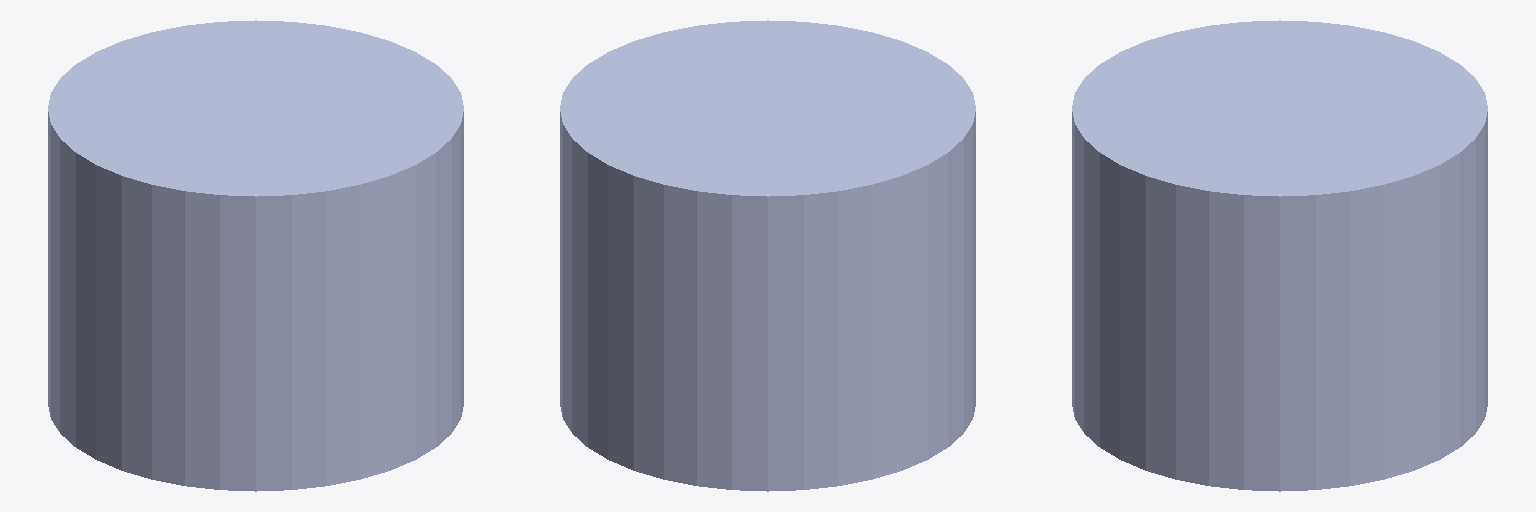
robot.urdf — robot_final:
<?xml version="1.0" encoding="utf-8"?>
<!-- This URDF was automatically created by SolidWorks to URDF Exporter! Originally created by [author] ([email redacted]) 
     Commit Version: 1.6.0-1-g15f4949  Build Version: 1.6.7594.29634
     For more information, please see http://wiki.ros.org/sw_urdf_exporter -->
<robot
  name="robot_final">
  <link
    name="base_link">
    <inertial>
      <origin
        xyz="2.94600070643872E-18 0.126942775144244 0.000980550207085389"
        rpy="0 0 0" />
      <mass
        value="19.3007876962352" />
      <inertia
        ixx="0.221118306695672"
        ixy="5.66726295707094E-18"
        ixz="-5.89775222959191E-19"
        iyy="0.24602356691635"
        iyz="-0.000586567929850887"
        izz="0.225746661344354" />
    </inertial>
    <visual>
      <origin
        xyz="0 0 0"
        rpy="0 0 0" />
      <geometry>
        <mesh
          filename="package://robot_final/meshes/base_link.STL" />
      </geometry>
      <material
        name="">
        <color
          rgba="0.792156862745098 0.819607843137255 0.933333333333333 1" />
      </material>
    </visual>
    <collision>
      <origin
        xyz="0 0 0"
        rpy="0 0 0" />
      <geometry>
        <mesh
          filename="package://robot_final/meshes/base_link.STL" />
      </geometry>
    </collision>
  </link>
  <link
    name="left_wheel_link">
    <inertial>
      <origin
        xyz="2.90294414915799E-18 1.38777878078145E-17 0.005"
        rpy="0 0 0" />
      <mass
        value="2.44162067762876" />
      <inertia
        ixx="0.00614637311915079"
        ixy="-1.49904665145034E-34"
        ixz="-6.88214269643704E-23"
        iyy="0.00614637311915079"
        iyz="-9.84935696293967E-38"
        izz="0.0122520525603411" />
    </inertial>
    <visual>
      <origin
        xyz="0 0 0"
        rpy="0 0 0" />
      <geometry>
        <mesh
          filename="package://robot_final/meshes/left_wheel_link.STL" />
      </geometry>
      <material
        name="">
        <color
          rgba="0.792156862745098 0.819607843137255 0.933333333333333 1" />
      </material>
    </visual>
    <collision>
      <origin
        xyz="0 0 0"
        rpy="0 0 0" />
      <geometry>
        <mesh
          filename="package://robot_final/meshes/left_wheel_link.STL" />
      </geometry>
    </collision>
  </link>
  <joint
    name="left_wheel_joint"
    type="continuous">
    <origin
      xyz="0 -0.1005 0.09"
      rpy="1.5708 0 0" />
    <parent
      link="base_link" />
    <child
      link="left_wheel_link" />
    <axis
      xyz="0 0 1" />
  </joint>
  <link
    name="right_wheel_link">
    <inertial>
      <origin
        xyz="-2.48526314664709E-17 1.38777878078145E-17 -0.00500000000000002"
        rpy="0 0 0" />
      <mass
        value="2.44162067762876" />
      <inertia
        ixx="0.00614637311915079"
        ixy="-1.49904665145034E-34"
        ixz="6.88214269643756E-23"
        iyy="0.00614637311915079"
        iyz="-1.30906907998409E-35"
        izz="0.0122520525603411" />
    </inertial>
    <visual>
      <origin
        xyz="0 0 0"
        rpy="0 0 0" />
      <geometry>
        <mesh
          filename="package://robot_final/meshes/right_wheel_link.STL" />
      </geometry>
      <material
        name="">
        <color
          rgba="0.792156862745098 0.819607843137255 0.933333333333333 1" />
      </material>
    </visual>
    <collision>
      <origin
        xyz="0 0 0"
        rpy="0 0 0" />
      <geometry>
        <mesh
          filename="package://robot_final/meshes/right_wheel_link.STL" />
      </geometry>
    </collision>
  </link>
  <joint
    name="right_wheel_joint"
    type="continuous">
    <origin
      xyz="0 0.1005 0.09"
      rpy="1.5708 0 0" />
    <parent
      link="base_link" />
    <child
      link="right_wheel_link" />
    <axis
      xyz="0 0 1" />
  </joint>
  <link
    name="caster1_link">
    <inertial>
      <origin
        xyz="0 0 5.55111512312578E-17"
        rpy="0 0 0" />
      <mass
        value="0.0280126392142641" />
      <inertia
        ixx="1.01125627563493E-06"
        ixy="0"
        ixz="0"
        iyy="1.01125627563493E-06"
        iyz="0"
        izz="1.01125627563493E-06" />
    </inertial>
    <visual>
      <origin
        xyz="0 0 0"
        rpy="0 0 0" />
      <geometry>
        <mesh
          filename="package://robot_final/meshes/caster1_link.STL" />
      </geometry>
      <material
        name="">
        <color
          rgba="0.792156862745098 0.819607843137255 0.933333333333333 1" />
      </material>
    </visual>
    <collision>
      <origin
        xyz="0 0 0"
        rpy="0 0 0" />
      <geometry>
        <mesh
          filename="package://robot_final/meshes/caster1_link.STL" />
      </geometry>
    </collision>
  </link>
  <joint
    name="caster1_joint"
    type="continuous">
    <origin
      xyz="0.12 0 0"
      rpy="1.5708 0 0" />
    <parent
      link="base_link" />
    <child
      link="caster1_link" />
    <axis
      xyz="0 0 1" />
  </joint>
  <link
    name="caster2_link">
    <inertial>
      <origin
        xyz="1.38777878078145E-17 0 -2.78097857242532E-17"
        rpy="0 0 0" />
      <mass
        value="0.0280126392142641" />
      <inertia
        ixx="1.01125627563493E-06"
        ixy="-9.43502886193297E-24"
        ixz="1.03397576569128E-24"
        iyy="1.01125627563493E-06"
        iyz="3.30872245021211E-24"
        izz="1.01125627563493E-06" />
    </inertial>
    <visual>
      <origin
        xyz="0 0 0"
        rpy="0 0 0" />
      <geometry>
        <mesh
          filename="package://robot_final/meshes/caster2_link.STL" />
      </geometry>
      <material
        name="">
        <color
          rgba="0.792156862745098 0.819607843137255 0.933333333333333 1" />
      </material>
    </visual>
    <collision>
      <origin
        xyz="0 0 0"
        rpy="0 0 0" />
      <geometry>
        <mesh
          filename="package://robot_final/meshes/caster2_link.STL" />
      </geometry>
    </collision>
  </link>
  <joint
    name="caster2_joint"
    type="continuous">
    <origin
      xyz="-0.12 0 0"
      rpy="1.6031 0.1812 0.0029334" />
    <parent
      link="base_link" />
    <child
      link="caster2_link" />
    <axis
      xyz="0.0028853 -0.031751 -0.99949" />
  </joint>
</robot>

--- Facts derived from the render (not from the file) ---
Views: 3 orthographic renders of the robot side by side, from view 1: azimuth 30°, elevation 25°; view 2: azimuth 150°, elevation 25°; view 3: azimuth 270°, elevation 25°.
Model robot_final with 5 links and 4 joints (4 continuous), rooted at base_link, posed all joints at 0.
Links seen in each view (by area): view 1: base_link; view 2: base_link; view 3: base_link.
Link boxes in pixels (bbox=[...]): base_link: bbox=[48, 20, 463, 491]; base_link: bbox=[560, 20, 975, 491]; base_link: bbox=[1072, 20, 1487, 491].
Size in the robot's own frame: 0.32 by 0.32 by 0.2599 metres.
5 mesh visuals loaded from 5 distinct referenced files (5 binary STL).